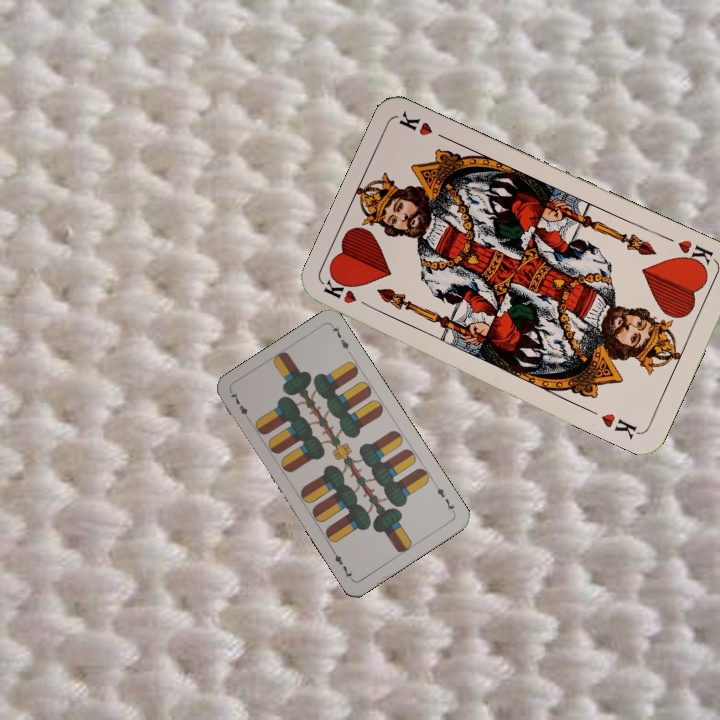E7: (226, 388, 254, 424), (431, 480, 458, 516)
HK: (320, 276, 377, 313), (674, 235, 719, 273)
